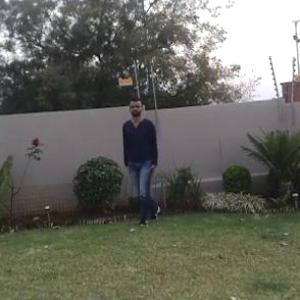follow: (122, 98, 166, 230)
